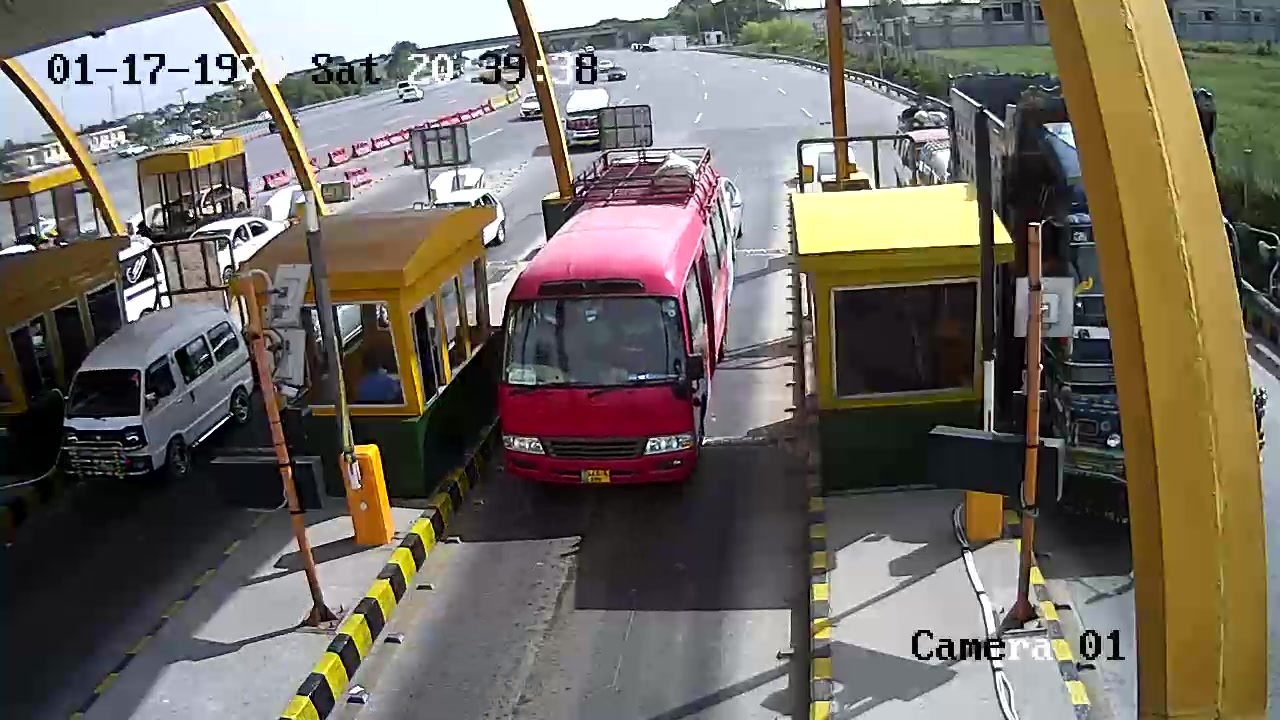F3: (488, 138, 742, 512)
